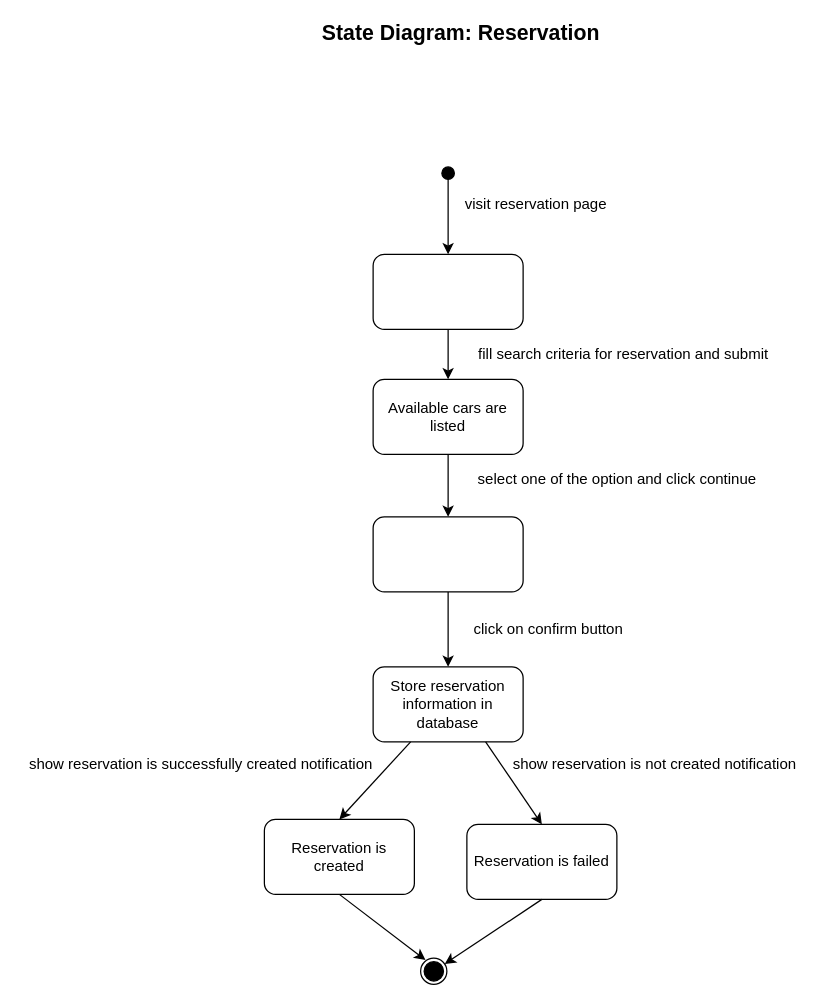
The diagram is 823 pixels wide and 1006 high, and some of its shapes have lost their labels. Here are the shapes that lost their labels. From the top down, the centre of each, then its label:
At point 447,291: "Reservation initiated".
At point 447,554: "Summary of the reservation is displayed (car type, date,duration,fee,etc.)".
